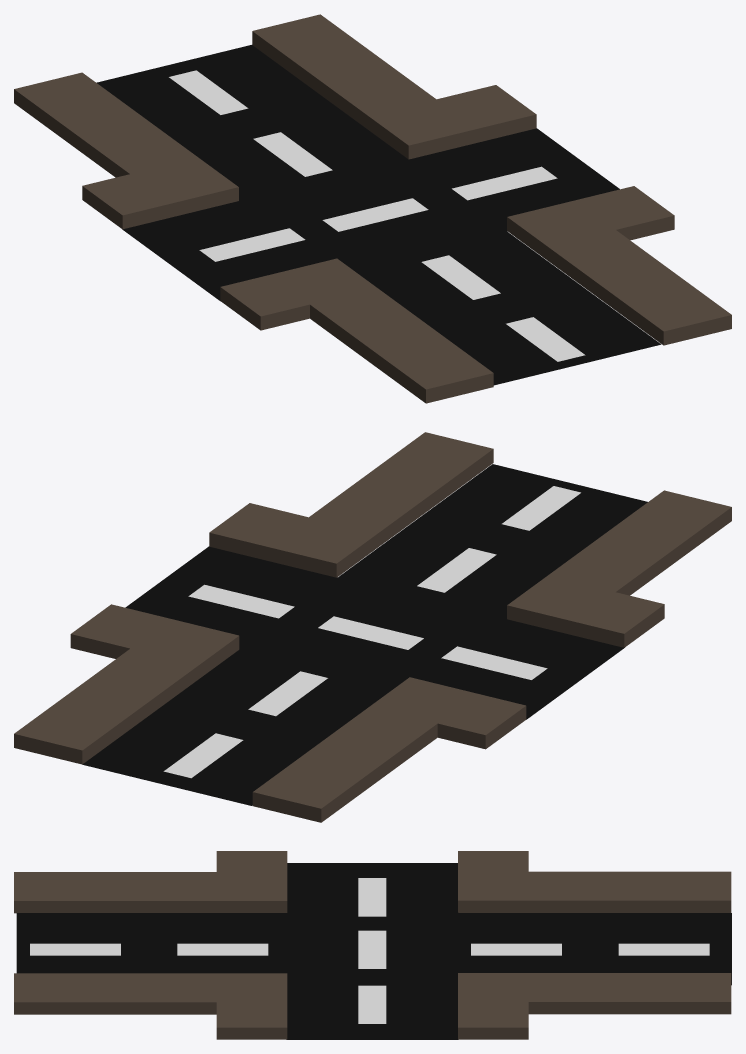
The model's file is ruaX.fbx.
3 views of the same model, one above another, from view 1: azimuth 30°, elevation 25°; view 2: azimuth 150°, elevation 25°; view 3: azimuth 270°, elevation 25° (orthographic). The views are drawn at different scales.
Visible parts, largest first — view 1: Rua X; view 2: Rua X; view 3: Rua X.
Boxes of the visible parts, x1,y1,x2,y2 form: Rua X: [14, 14, 731, 403]; Rua X: [14, 432, 731, 822]; Rua X: [14, 851, 731, 1039].
Bounding box in the file's own units: 486 × 15.74 × 834.
